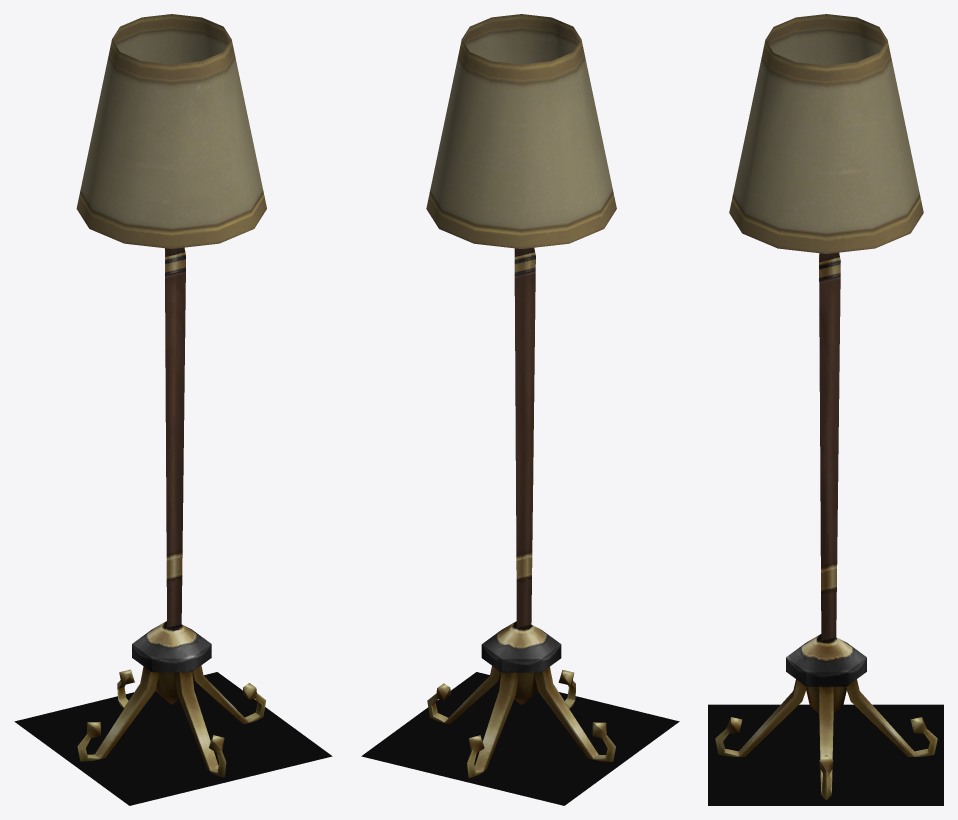
The model's file is jj_ty_luodideng01.FBX.
3 views of the same model, side by side, from view 1: azimuth 30°, elevation 25°; view 2: azimuth 150°, elevation 25°; view 3: azimuth 270°, elevation 25° (orthographic). The views are drawn at different scales.
Visible parts, largest first — view 1: jj_ty_luodideng01, shadow; view 2: jj_ty_luodideng01, shadow; view 3: jj_ty_luodideng01, shadow.
Part boxes in pixels (x1,y1,x2,y2): jj_ty_luodideng01: [76, 14, 266, 777]; shadow: [14, 672, 332, 805]; jj_ty_luodideng01: [426, 14, 616, 777]; shadow: [361, 672, 679, 805]; jj_ty_luodideng01: [715, 14, 937, 799]; shadow: [708, 704, 943, 805].
Size of the model in its own units: 45.6 by 151 by 44.84.
